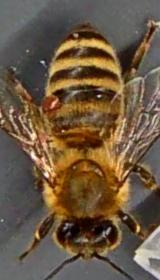varroa_mite: (36, 88, 64, 116)
